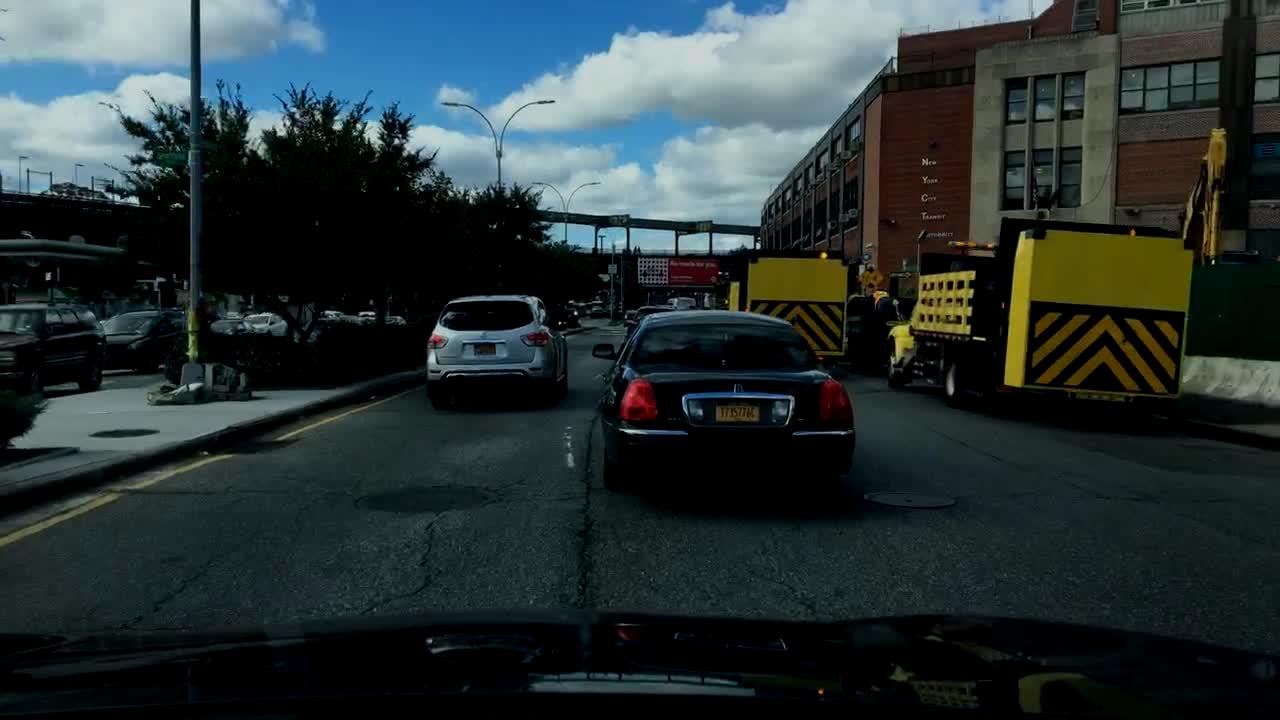lincoln: (728, 378, 749, 401)
